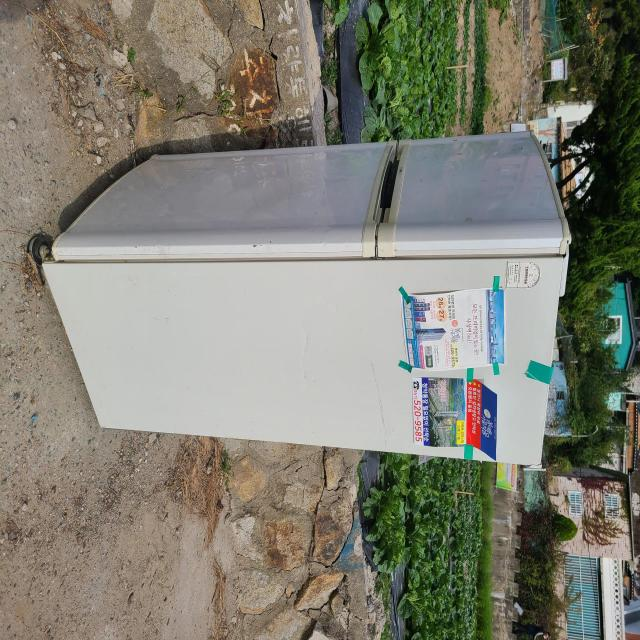refrigerator: (25, 129, 571, 467)
